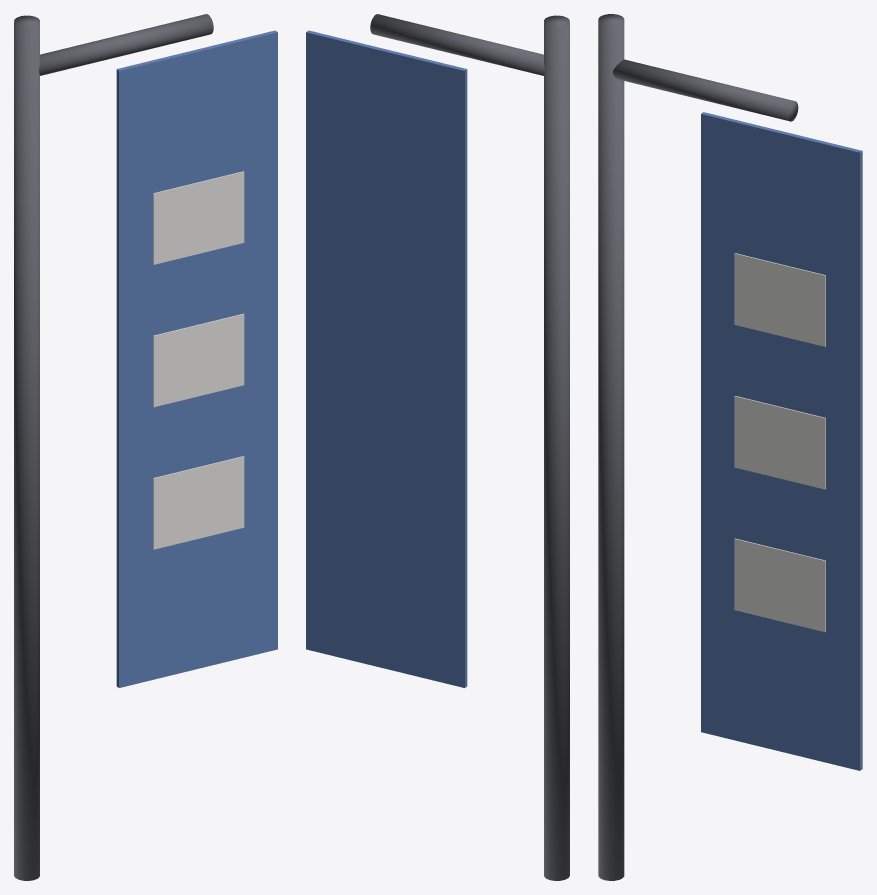
The model's file is prop_tatemaku_blue.glb.
3 renders of one model, left to right at view 1: azimuth 30°, elevation 25°; view 2: azimuth 150°, elevation 25°; view 3: azimuth 330°, elevation 25°, orthographic.
Parts seen in each view (by area): view 1: tatemaku_blue; view 2: tatemaku_blue; view 3: tatemaku_blue.
Boxes of the visible parts, x1,y1,x2,y2 form: tatemaku_blue: [14, 14, 277, 880]; tatemaku_blue: [306, 14, 569, 880]; tatemaku_blue: [598, 14, 862, 880].
Size of the model in its own units: 1.15 by 3.6 by 0.1.
